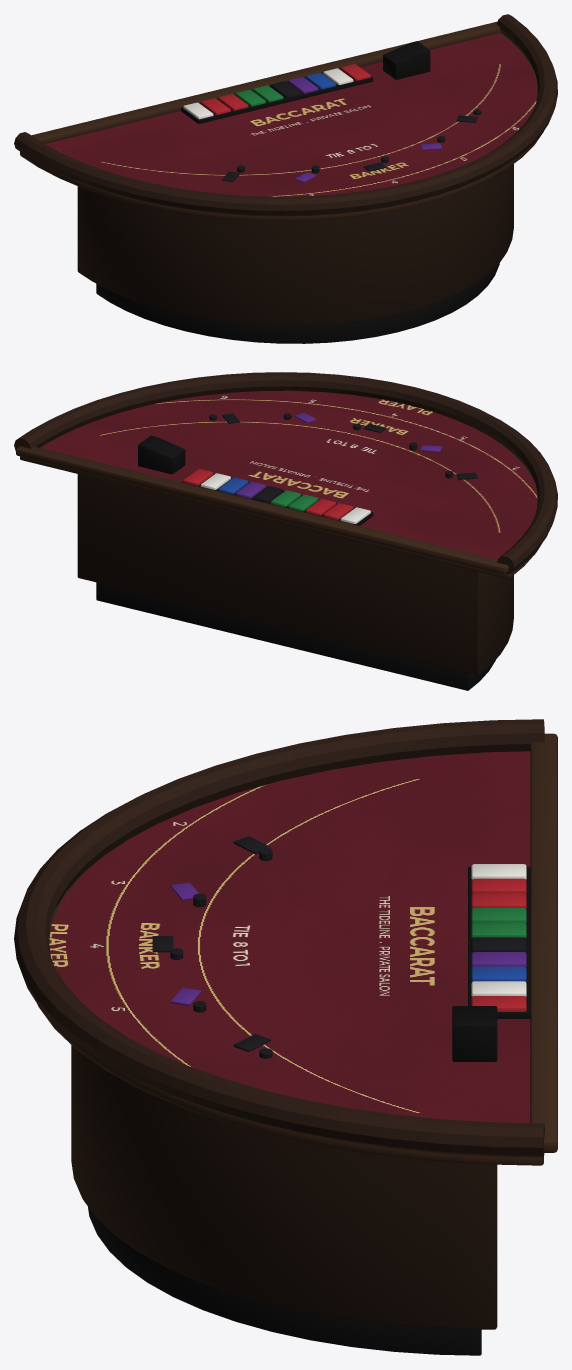
File: tideline_baccarat.glb
3 views of the same model, one above another, from view 1: azimuth 30°, elevation 25°; view 2: azimuth 150°, elevation 25°; view 3: azimuth 270°, elevation 25° (orthographic). The views are drawn at different scales.
Parts seen in each view (by area): view 1: tideline_baccarat; view 2: tideline_baccarat; view 3: tideline_baccarat.
Part boxes in pixels (x1,y1,x2,y2): tideline_baccarat: (14, 14, 557, 343); tideline_baccarat: (14, 372, 557, 690); tideline_baccarat: (14, 719, 557, 1355).
Size of the model in its own units: 2.86 by 0.932 by 1.57.
11 materials, 1 textured.
